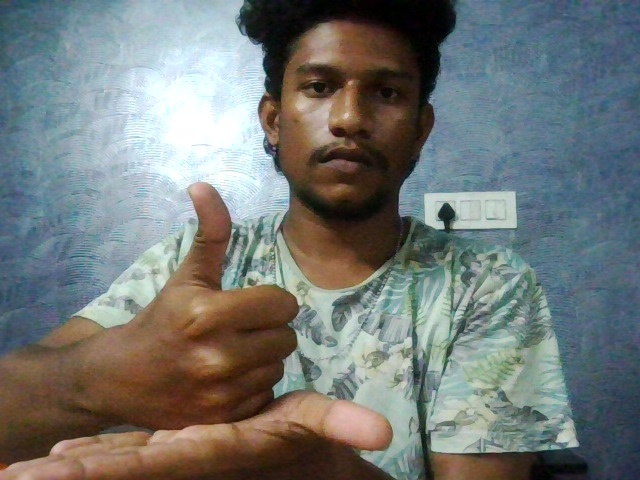help: (27, 161, 425, 478)
